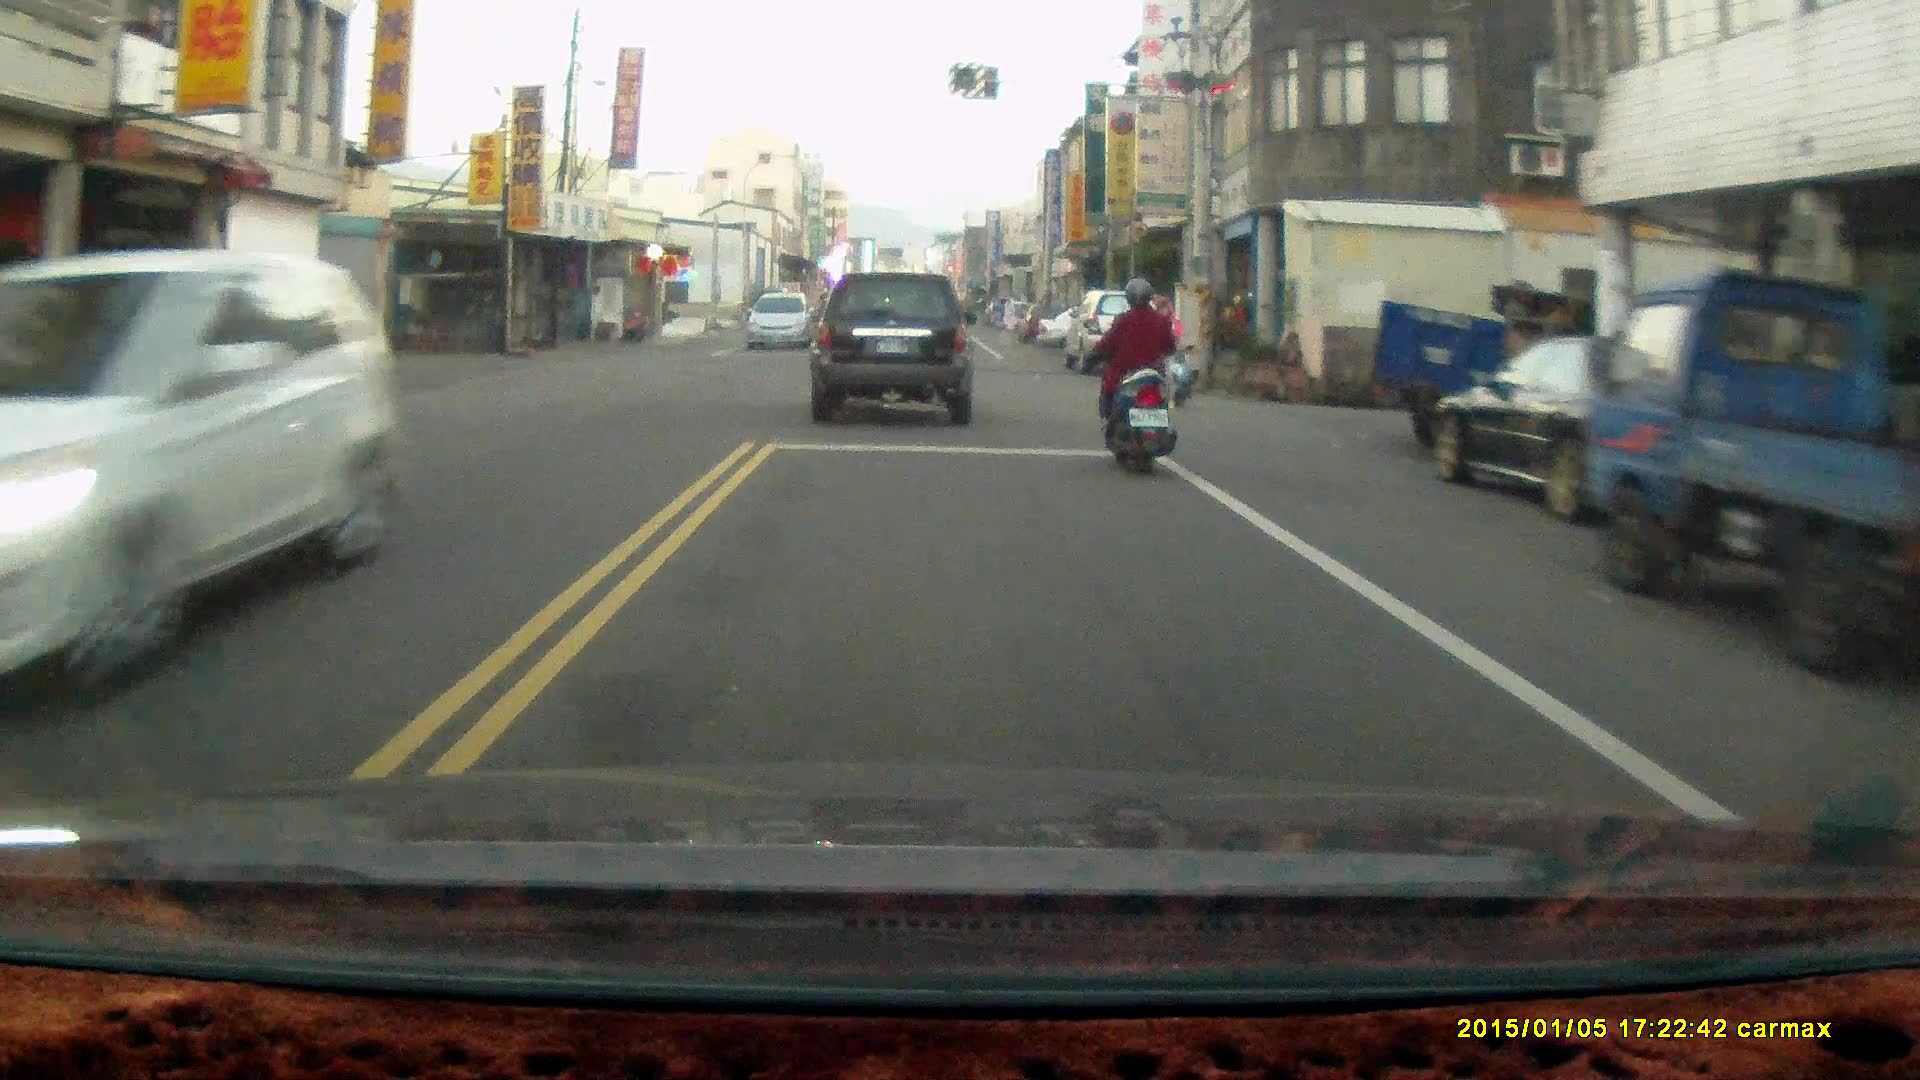rider: (1096, 270, 1175, 473)
vehicle: (1, 249, 404, 717), (1584, 267, 1920, 682), (1422, 327, 1814, 522), (1370, 278, 1642, 457), (807, 269, 982, 430), (1065, 288, 1171, 373), (746, 292, 818, 353)
